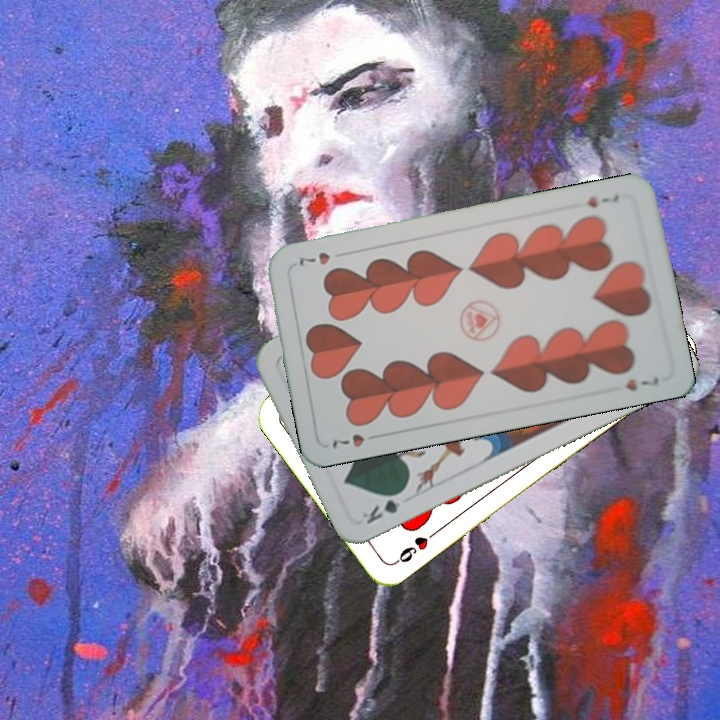GK: (358, 486, 408, 527)
H7: (328, 429, 367, 451), (583, 191, 621, 211)
H9: (390, 526, 441, 567)
